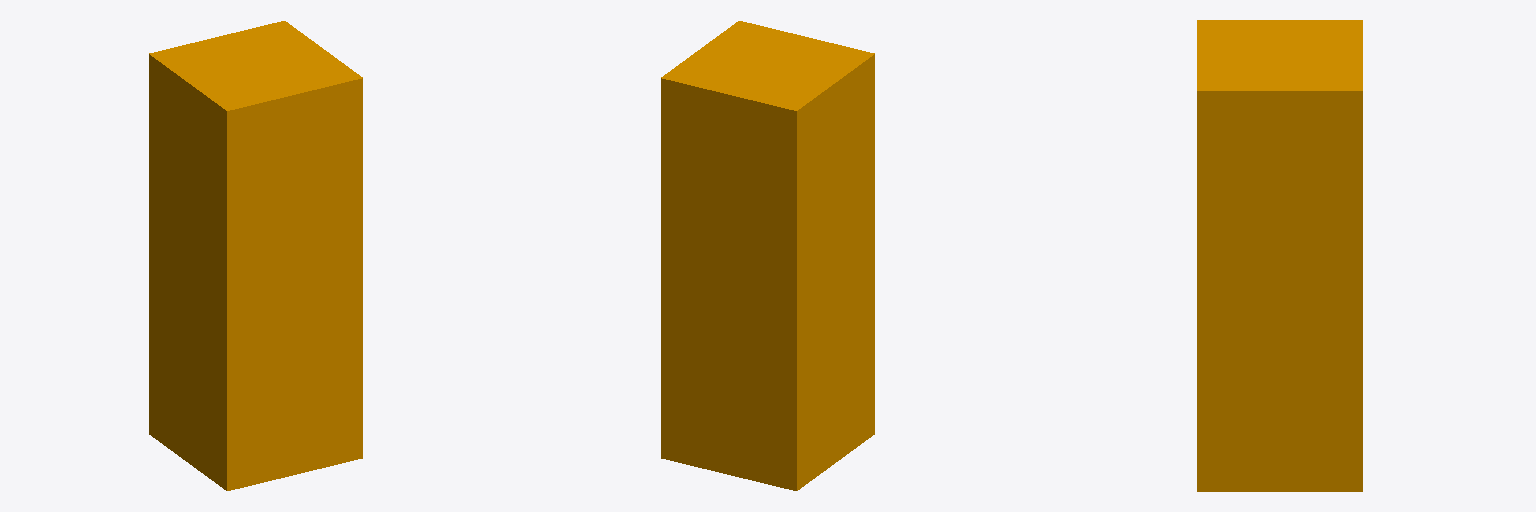
robot.urdf — block_object:
<?xml version="1.0"?>

<robot name="block_object">

  <gazebo reference="block">
    <mu1>100000</mu1>
    <mu2>100000</mu2>
    <kp>10000000</kp>
    <kd>1</kd>
    <minDepth>0.001</minDepth>
  </gazebo>

  <link name="block">
    <collision>
      <geometry>
        <box size="0.03 0.03 0.08"/>
      </geometry>
    </collision>
    <visual>
      <geometry>
        <box size="0.03 0.03 0.08"/>
      </geometry>
    </visual>
    <inertial>
      <mass value="0.072"/>
      <inertia
        ixx="0.0000654" ixy="0.0" ixz="0.0"
        iyy="0.0000654" iyz="0.0"
        izz="0.0000108"/>
    </inertial>
  </link>

  <gazebo reference="block">
  <material>Gazebo/Blue</material>
  </gazebo>

</robot>

--- Render facts (derived) ---
3 views of the same robot in one strip: view 1: azimuth 30°, elevation 25°; view 2: azimuth 150°, elevation 25°; view 3: azimuth 270°, elevation 25° (orthographic).
Robot: block_object — 1 links, 0 joints (none); root link block; default pose: all joints at 0.
Links seen in each view (by area): view 1: block; view 2: block; view 3: block.
Boxes of the visible links, <box> form: block: <box>149,21,362,490</box>; block: <box>661,21,874,490</box>; block: <box>1197,20,1362,491</box>.
Bounding box of the posed robot: 0.03 × 0.03 × 0.08 m (x, y, z).
Geometry: primitives only (box / cylinder / sphere), no mesh files.